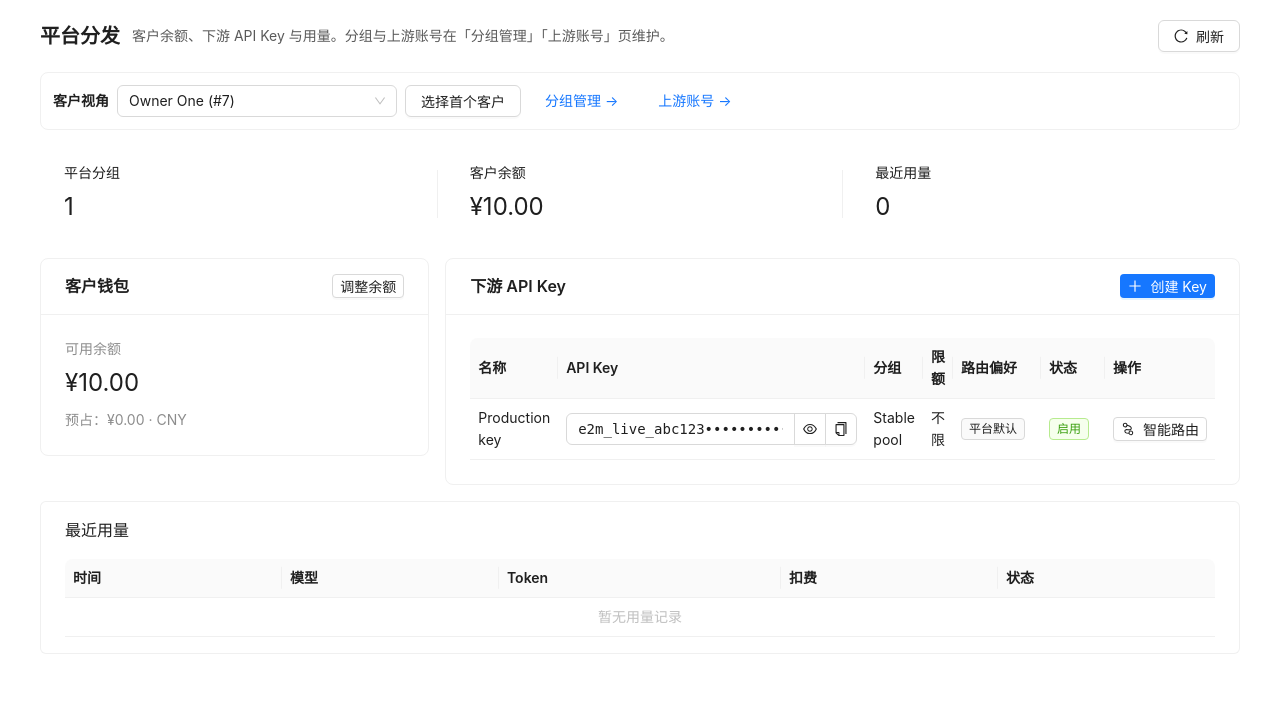
Test case: PlatformDistribution API key display and copy › clears a loaded plaintext key when an administrator changes customer context
Click the button named "显示 API Key": (810, 429) [794, 413, 826, 445]
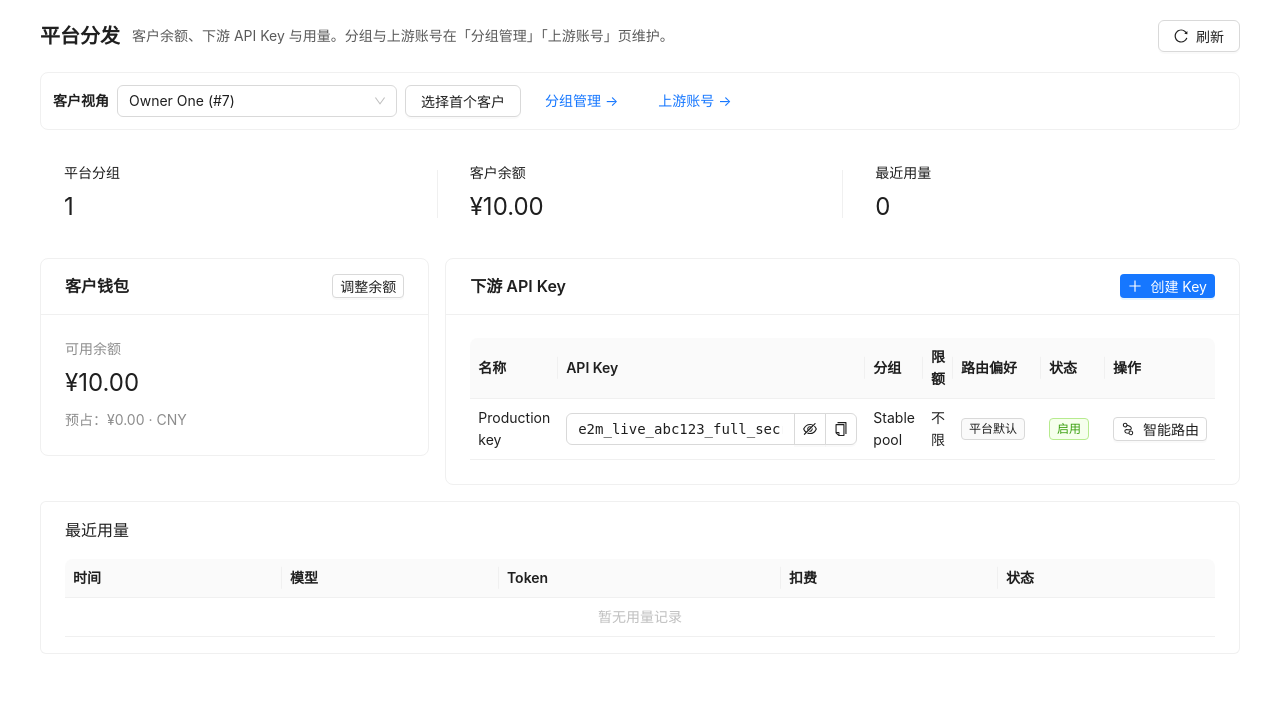
Press the mouse on the dropdown labelled "Owner One (#7)": (182, 100) [129, 92, 235, 109]
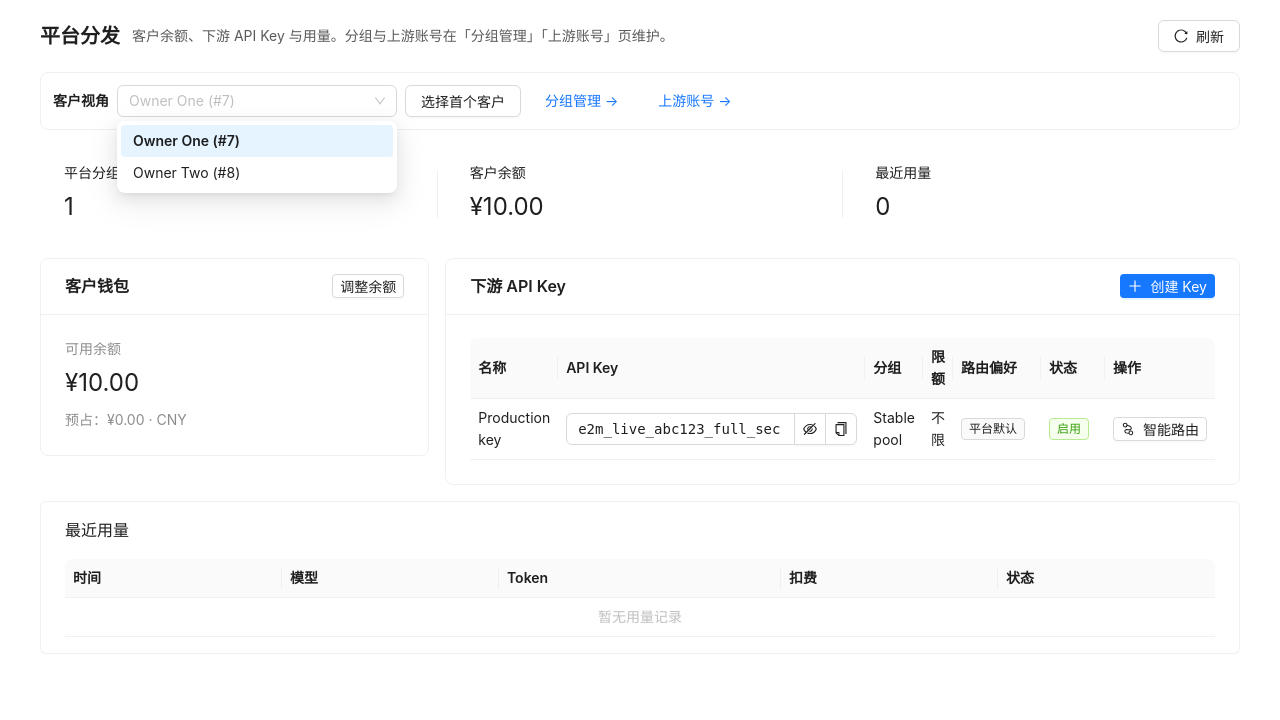
Click the text "Owner Two (#8)": (187, 172) [133, 164, 240, 181]
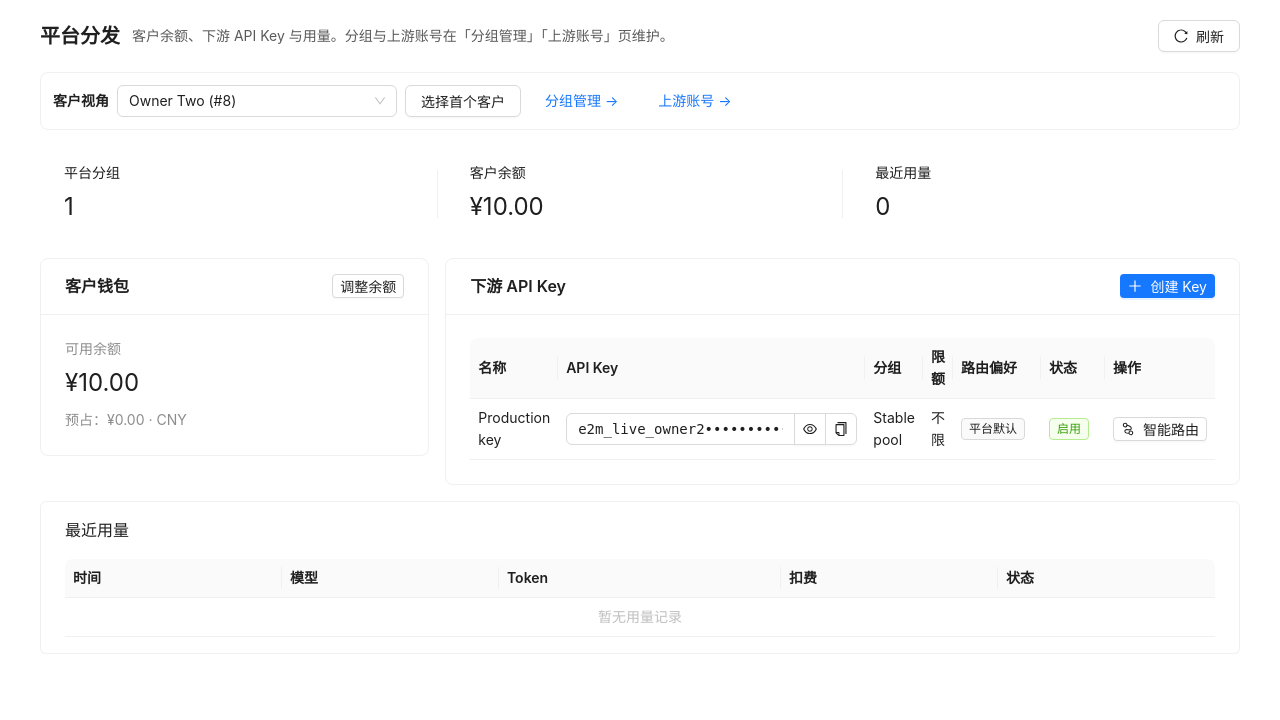
expect the field showing "e2m_live_owner2" does not hold "e2m_live_abc123_full_secret_value": met, box [566, 413, 795, 445]
